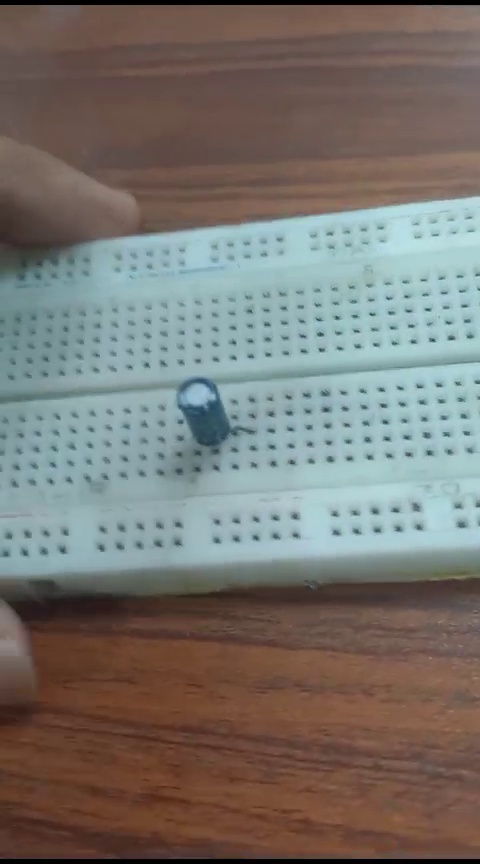capacitor: (165, 376, 238, 453)
